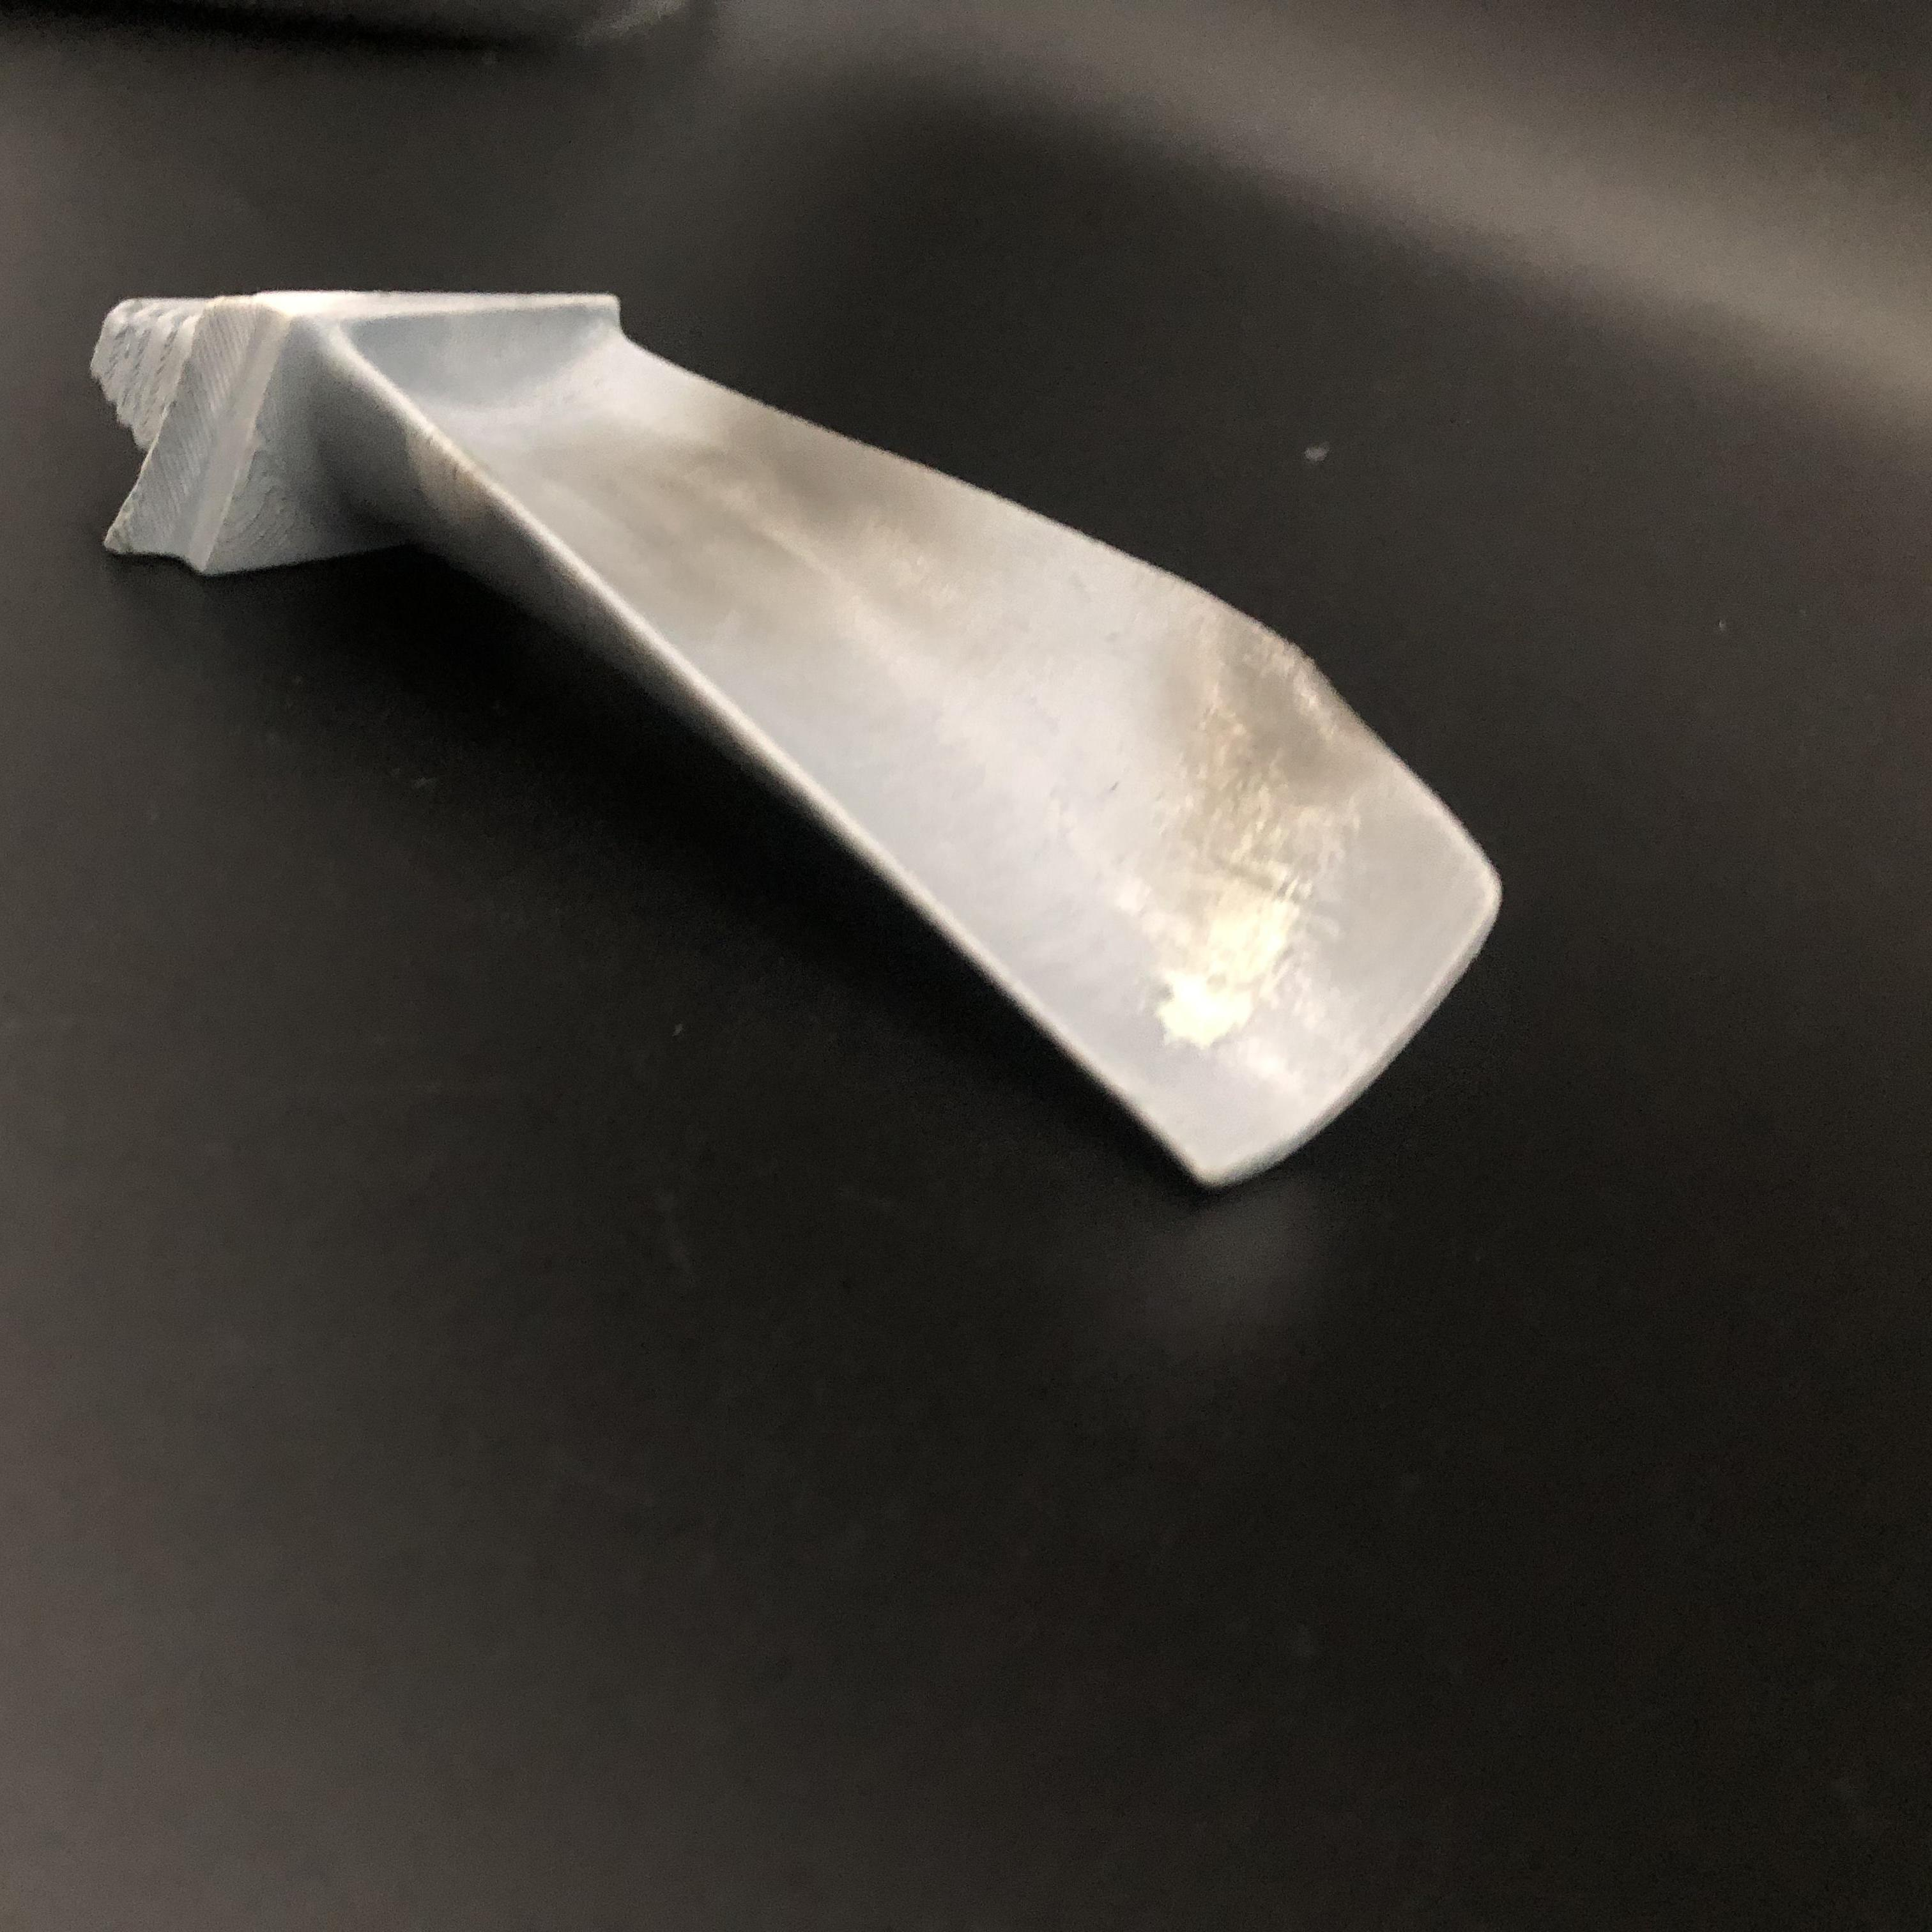ablation: (527, 409, 977, 637), (1168, 616, 1369, 1046)
